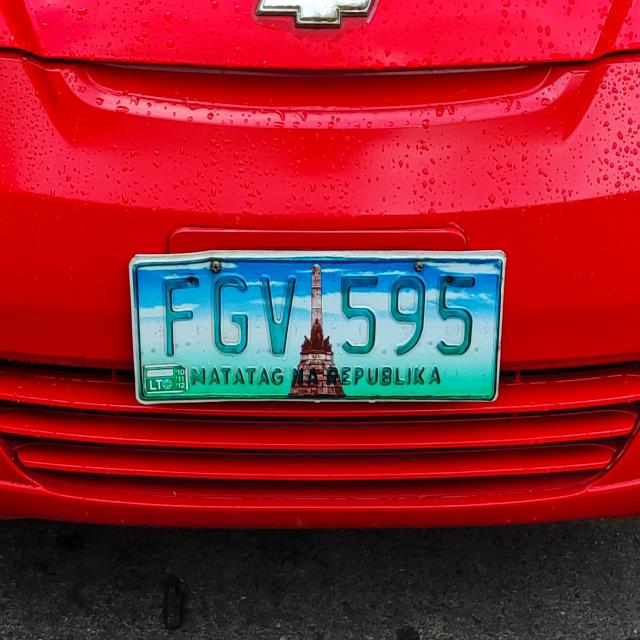plate: (124, 238, 508, 409)
